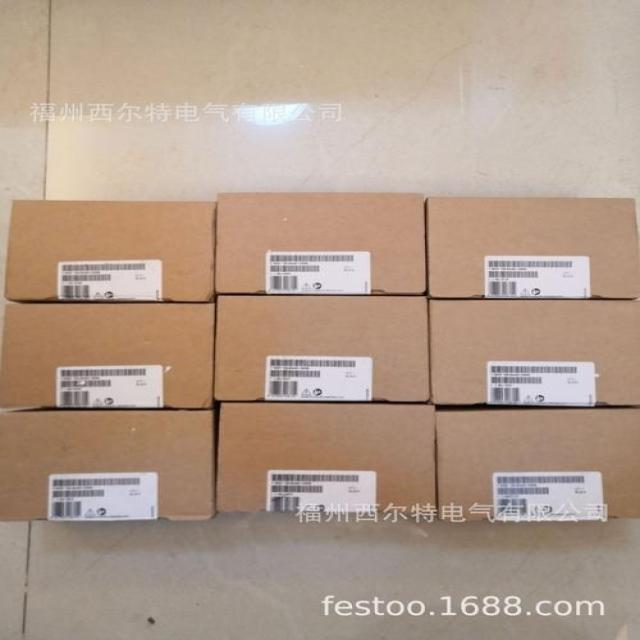box: (214, 293, 433, 402), (216, 403, 436, 511), (0, 410, 214, 521), (435, 408, 640, 521), (0, 302, 215, 408), (430, 299, 640, 406), (4, 199, 216, 303), (215, 191, 428, 294), (426, 197, 640, 298)
